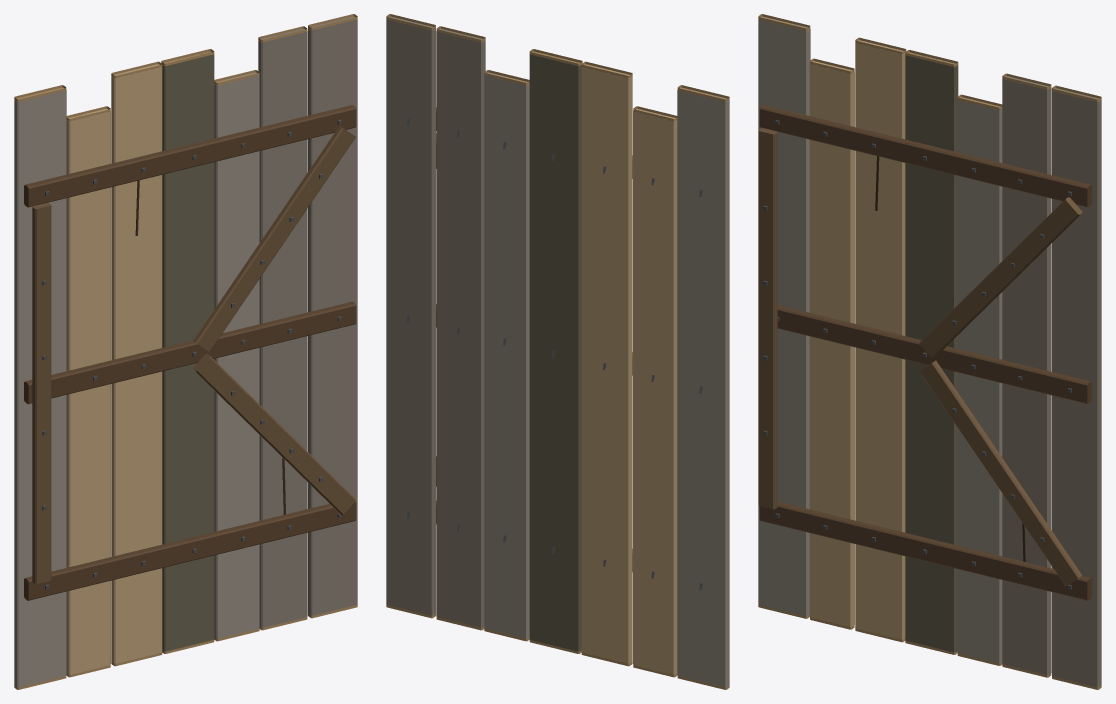
File: SM_LPD_Door_BoardingDoorway_01.fbx
3 views of the same model, side by side, from view 1: azimuth 30°, elevation 25°; view 2: azimuth 150°, elevation 25°; view 3: azimuth 330°, elevation 25° (orthographic).
Parts seen in each view (by area): view 1: SM_LPD_Door_BoardingDoorway_01; view 2: SM_LPD_Door_BoardingDoorway_01; view 3: SM_LPD_Door_BoardingDoorway_01.
Part boxes in pixels (<box>): SM_LPD_Door_BoardingDoorway_01: <box>14,14,357,689</box>; SM_LPD_Door_BoardingDoorway_01: <box>386,14,729,689</box>; SM_LPD_Door_BoardingDoorway_01: <box>758,14,1101,689</box>.
Size of the model in its own units: 1.56 by 2.58 by 0.1222.
